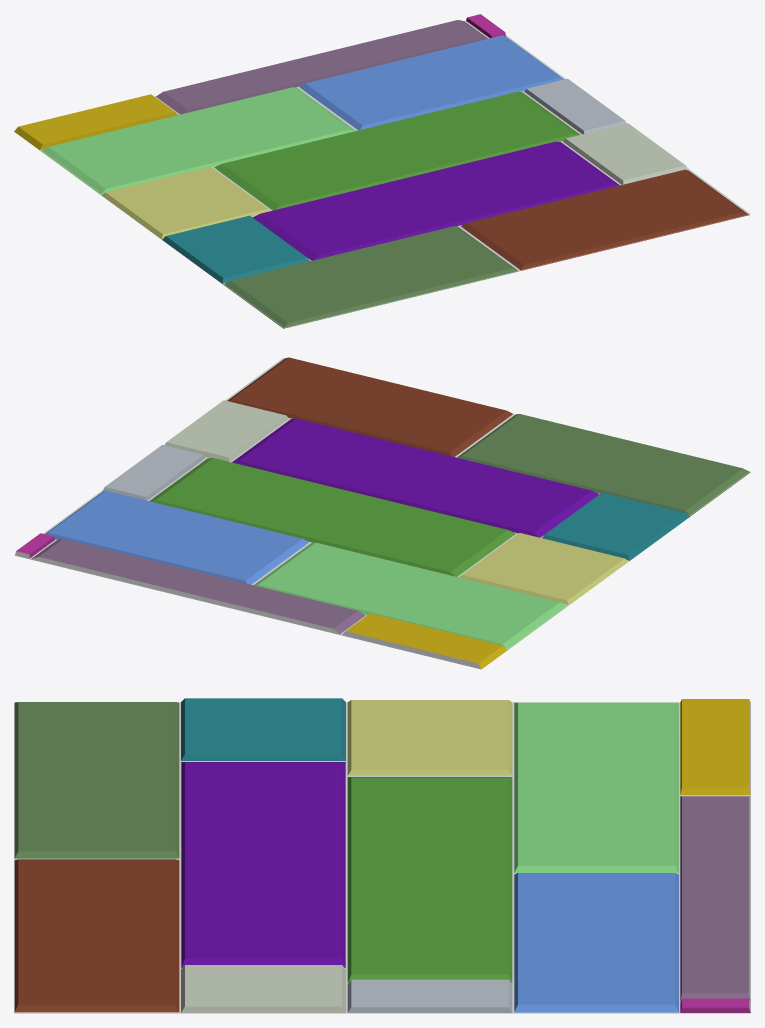
The model's file is Fu_Object_Chambre_sol.fbx.
The picture shows the model from 3 angles, top to bottom: view 1: azimuth 30°, elevation 25°; view 2: azimuth 150°, elevation 25°; view 3: azimuth 270°, elevation 25°; orthographic projection. The views are drawn at different scales.
Parts seen in each view (by area): view 1: Plane; view 2: Plane; view 3: Plane.
Part boxes in pixels (x1,y1,x2,y2): Plane: (14,14,750,328); Plane: (14,357,750,669); Plane: (14,698,750,1013).
Size of the model in its own units: 1001 by 9.36 by 1000.
